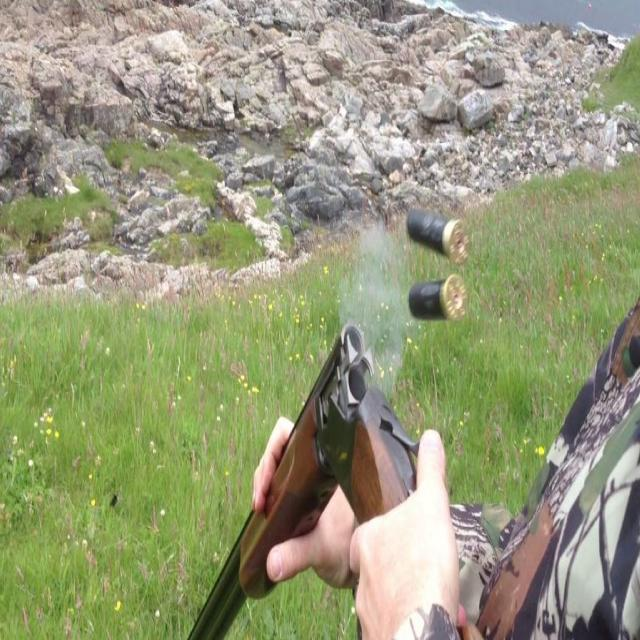heavy-weapon: (187, 318, 481, 639)
